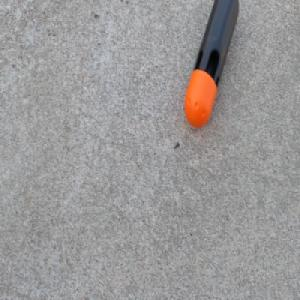PlasticPart: (183, 1, 240, 131)
